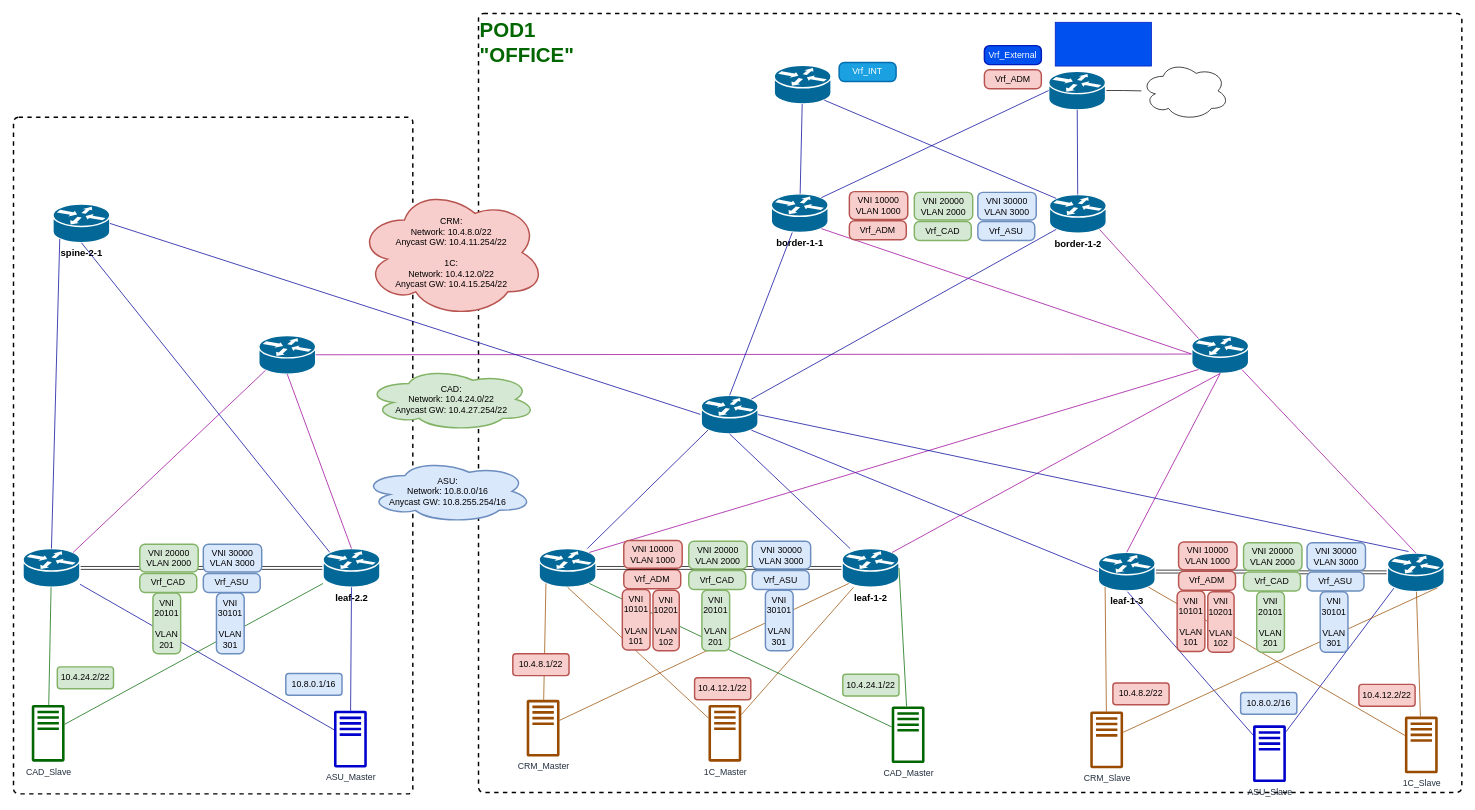
Some shapes in this 1475 by 810 pixel diagram are drawn without their labels. The shapes that lost their labels are listed below. From the top down, each one's box as (x1, y1, x2, y2) in pixels, then its label:
(1054, 22, 1152, 66): RID: 100.100.100.1 Lo1: 100.100.100.1/32 Ethernet0 200.200.0.1/16
(773, 64, 831, 104): Int-Router-1
(1048, 70, 1106, 110): Ext-Router-1
(1141, 61, 1229, 120): Internet
(258, 334, 316, 374): spine-2-2
(1191, 334, 1249, 374): spine-1-2
(700, 394, 758, 434): spine-1-1
(12, 116, 413, 794): POD2 "PRODUCTION"
(22, 548, 80, 588): leaf-2.1
(538, 548, 596, 588): leaf-1-1
(1386, 552, 1445, 592): leaf-1-4
